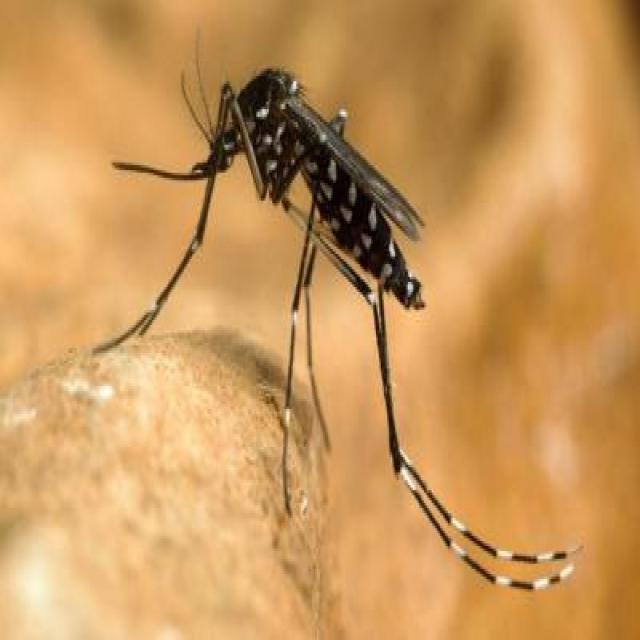antennae: (168, 30, 218, 144)
body: (207, 69, 426, 311)
insect: (93, 27, 588, 592)
legs: (96, 190, 580, 587)
mouthpart: (107, 135, 223, 189)
wings: (286, 90, 425, 243)
